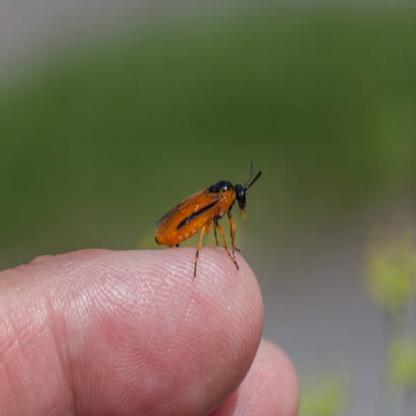sawfly: (149, 153, 268, 280)
